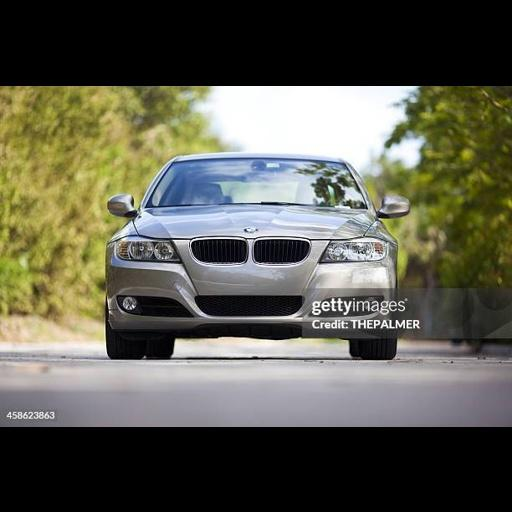car: (349, 336, 396, 358)
sedan: (105, 153, 409, 358)
